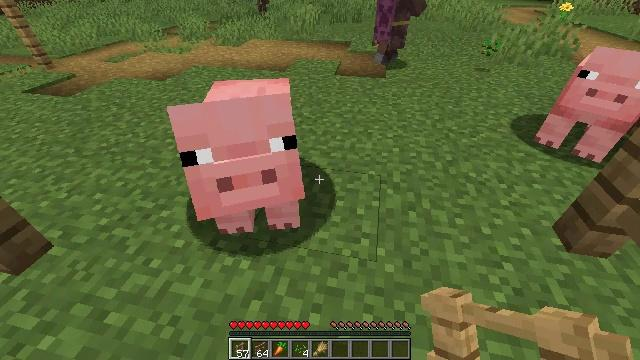pig: (169, 80, 302, 234), (540, 47, 640, 164)
